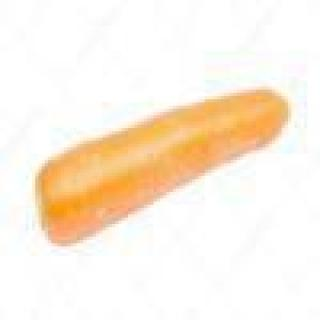Wortel: (8, 78, 296, 251)
